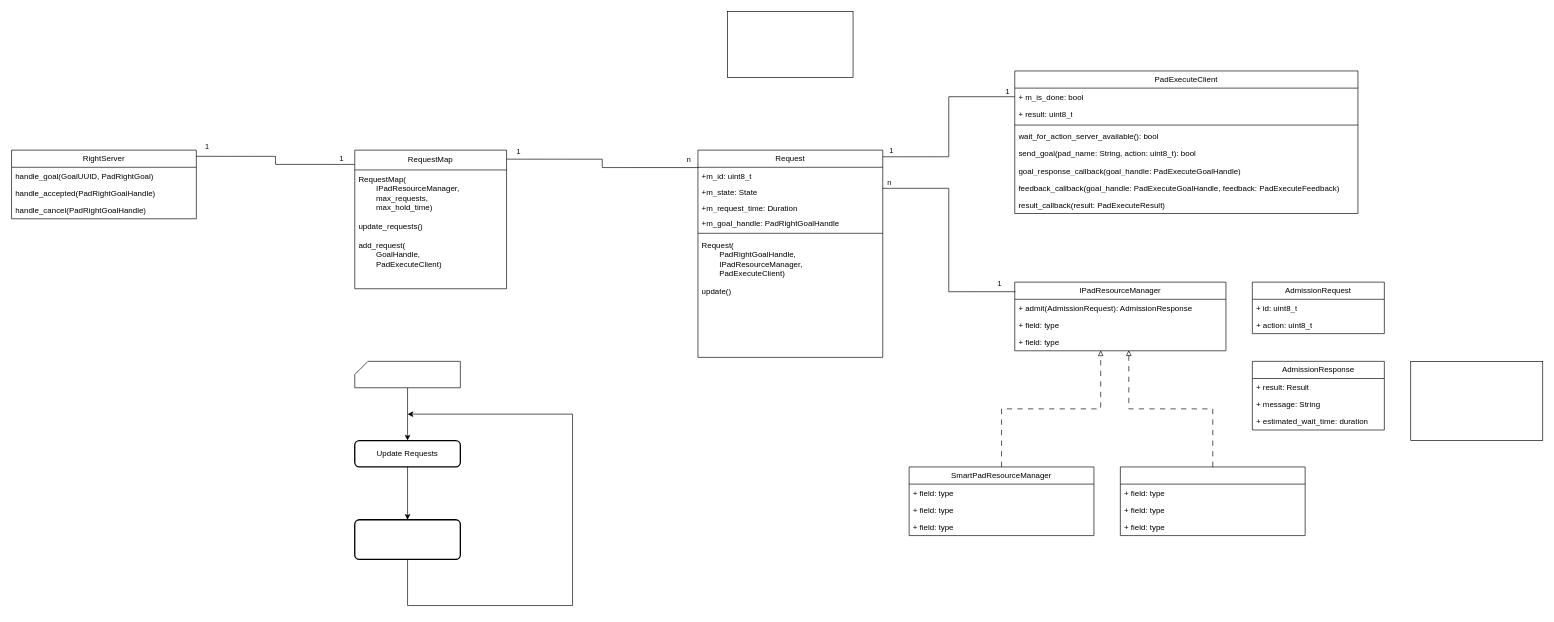
This 1554x622 diagram has some shape labels left out. Each missing label, with the centre of its shape:
<<Enum>> AdmissionResponse::Result ACCEPTED REJECTED PENDING: (1476,401)
<<Enum>> Request::State Waiting Acquired Finished: (790,44)
Remove "Finished" Requests: (407,539)
update_requests(): (407,374)
